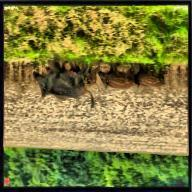boar: (23, 48, 98, 107), (96, 61, 134, 97), (134, 64, 161, 99)
